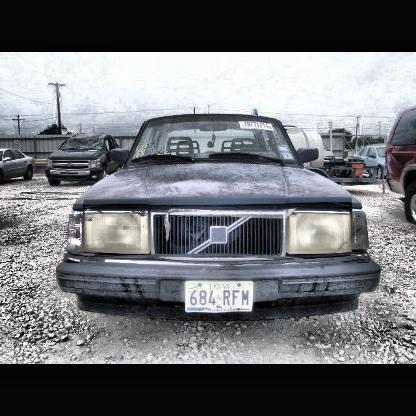Volvo 240 Sedan 1993: (52, 107, 387, 325)
